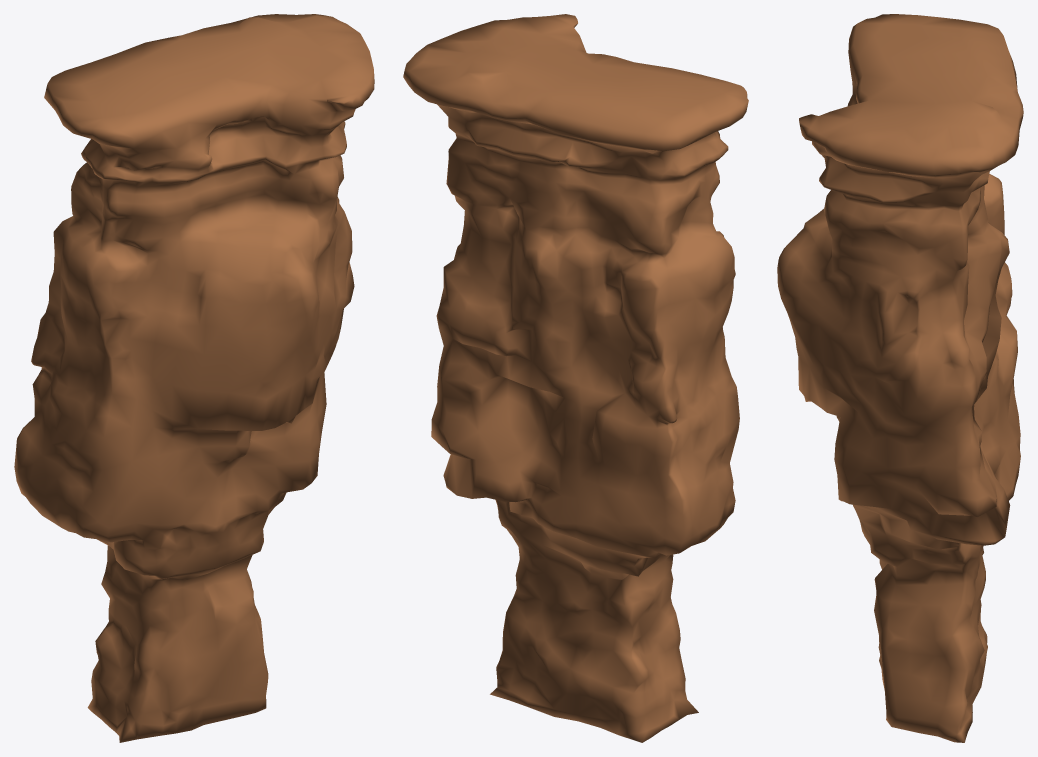
Rendered from MSH_Rocks_Cliff_16_a.FBX.
3 renders of one model, left to right at view 1: azimuth 30°, elevation 25°; view 2: azimuth 150°, elevation 25°; view 3: azimuth 270°, elevation 25°, orthographic. The views are drawn at different scales.
Parts seen in each view (by area): view 1: MESH_LOD0; view 2: MESH_LOD0; view 3: MESH_LOD0.
Part boxes in pixels (x1,y1,x2,y2): MESH_LOD0: (14, 14, 374, 742); MESH_LOD0: (403, 14, 748, 742); MESH_LOD0: (777, 14, 1023, 742).
Size of what is drawn, in the model's own units: 319 by 636 by 222.
